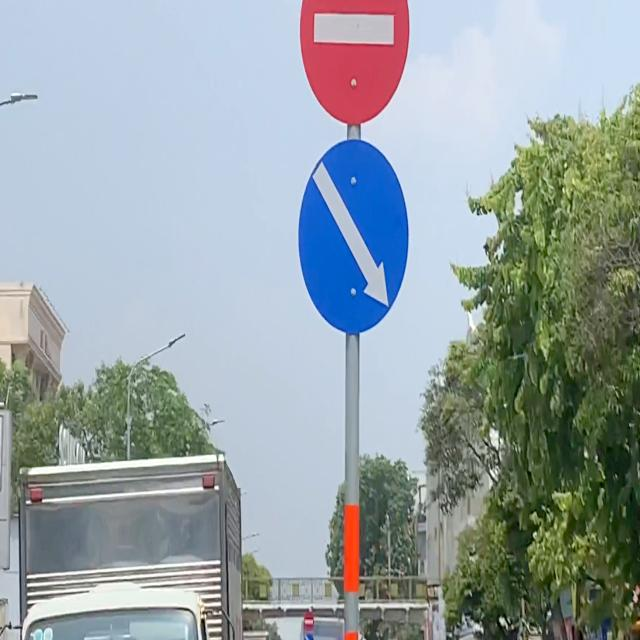Cam nguoc chieu: (295, 0, 412, 130)
Hieu lenh: (294, 135, 412, 343)
